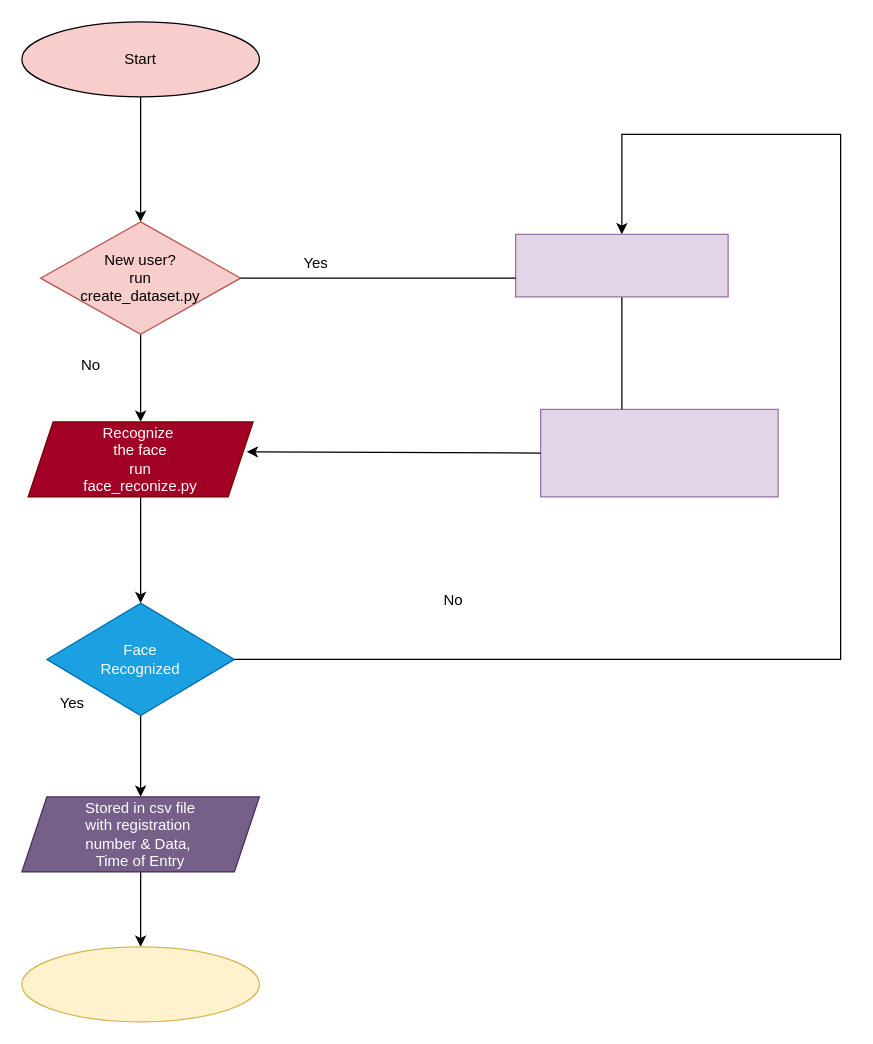
Some shapes in this 873 by 1044 pixel diagram are drawn without their labels. The centre of each missing label's shape, as x and y in pixels:
End: the point at 140,984
Give your Photograph: the point at 621,265
Store the face data in folder on your name: the point at 658,452
